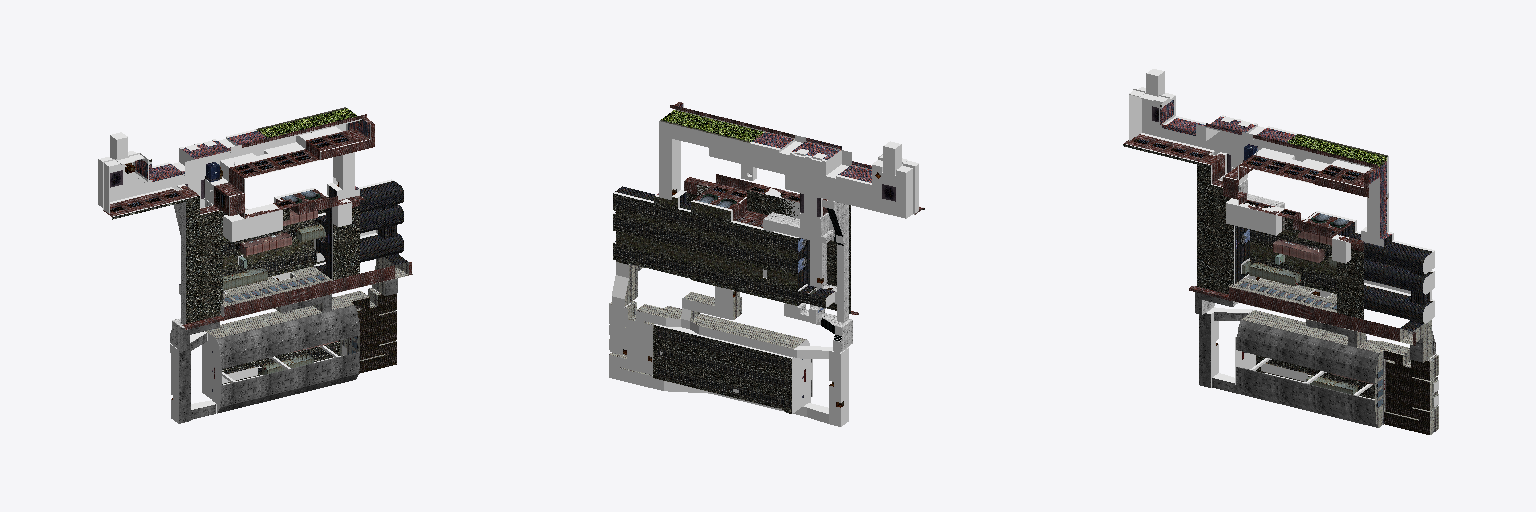
The picture shows the model from 3 angles: view 1: azimuth 30°, elevation 25°; view 2: azimuth 150°, elevation 25°; view 3: azimuth 330°, elevation 25°; orthographic projection.
Visible parts, largest first — view 1: BSP_Object.model_0.005, BSP_Object.model_27.004; view 2: BSP_Object.model_0.005; view 3: BSP_Object.model_0.005, BSP_Object.model_27.004.
Boxes of the visible parts, x1=… form: BSP_Object.model_0.005: x1=98, y1=107, x2=412, y2=423; BSP_Object.model_27.004: x1=223, y1=204, x2=282, y2=241; BSP_Object.model_0.005: x1=609, y1=102, x2=924, y2=426; BSP_Object.model_0.005: x1=1123, y1=69, x2=1438, y2=434; BSP_Object.model_27.004: x1=1226, y1=198, x2=1283, y2=235.
Bounding box in the file's own units: 104 × 97.4 × 18.2.
Materials: 104 (66 with a texture image).